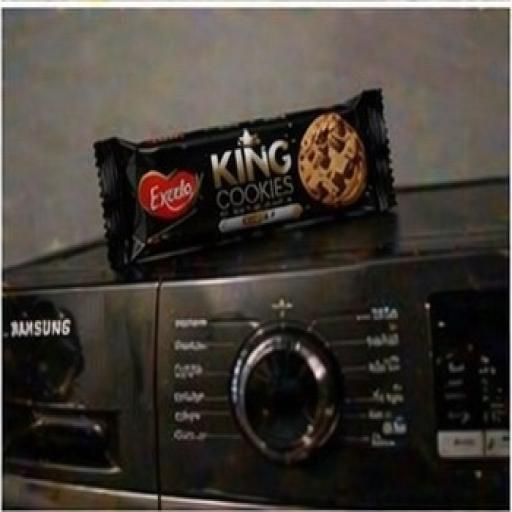king_cooking: (62, 90, 428, 322)
